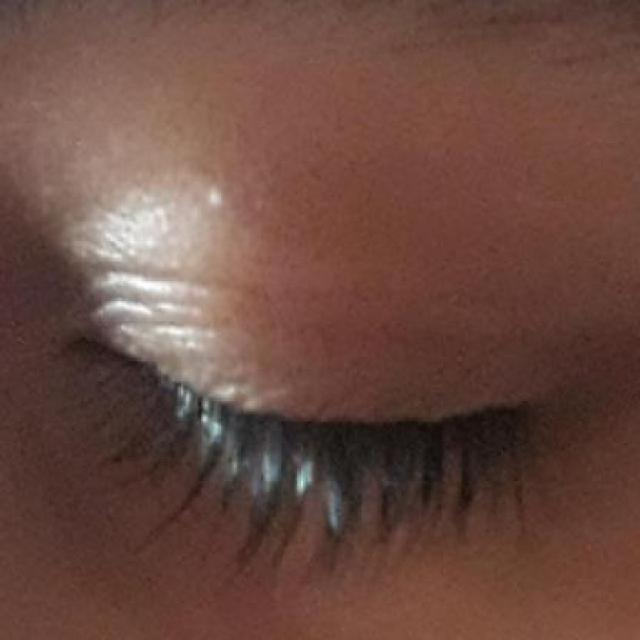drowsy: (73, 303, 544, 626)
